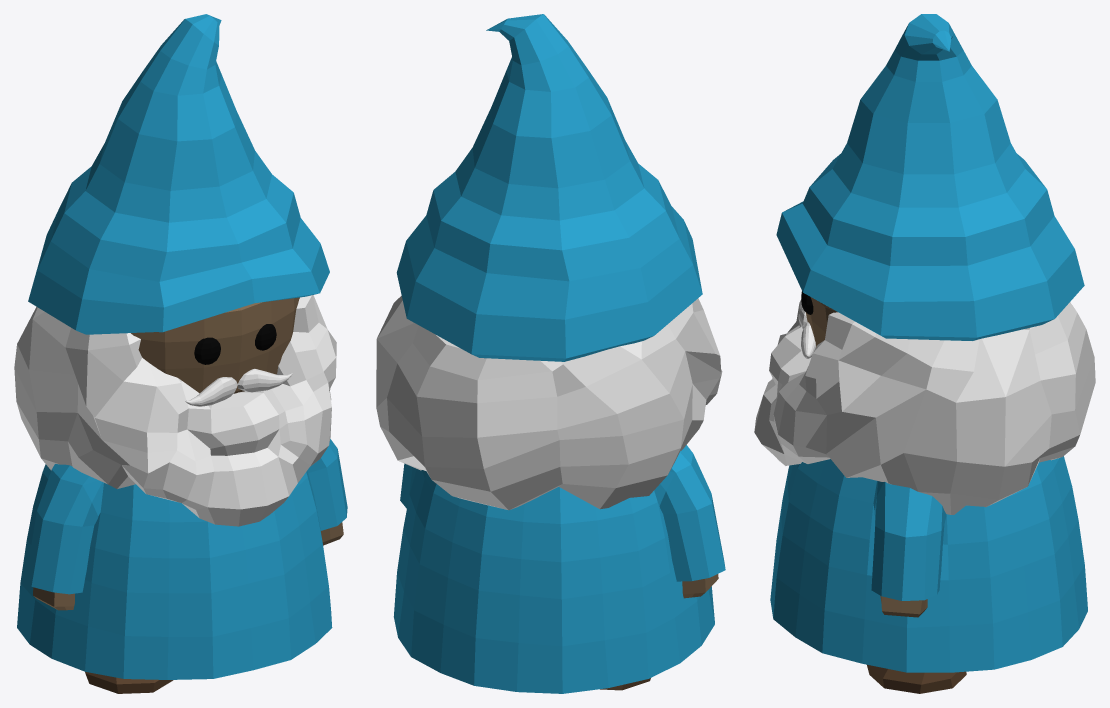
Rendered from blue_gnome.fbx.
The picture shows the model from 3 angles, left to right: view 1: azimuth 30°, elevation 25°; view 2: azimuth 150°, elevation 25°; view 3: azimuth 270°, elevation 25°; orthographic projection.
Visible parts, largest first — view 1: gnome_combined; view 2: gnome_combined; view 3: gnome_combined.
Part boxes in pixels (x1,y1,x2,y2): gnome_combined: (14, 14, 347, 693); gnome_combined: (376, 14, 725, 693); gnome_combined: (754, 14, 1095, 693).
Bounding box in the file's own units: 10.86 × 20.81 × 10.08.
